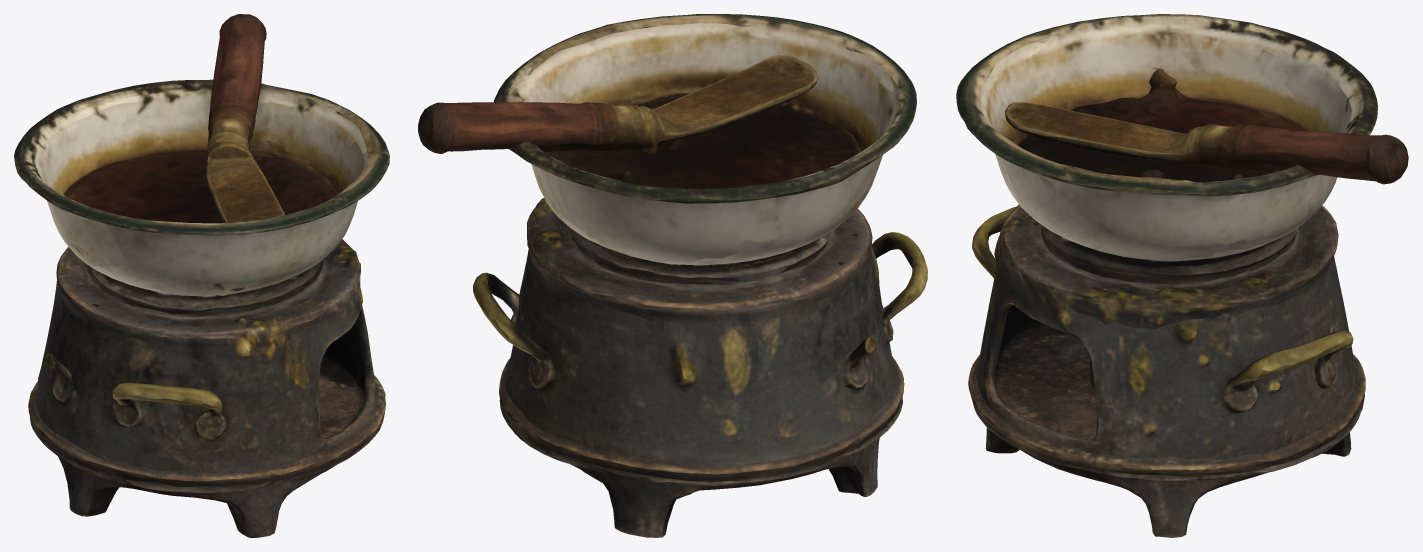
Rendered from 02-wax-heater.glb.
3 views of the same model, side by side, from view 1: azimuth 30°, elevation 25°; view 2: azimuth 150°, elevation 25°; view 3: azimuth 270°, elevation 25° (orthographic). The views are drawn at different scales.
Visible parts, largest first — view 1: world; view 2: world; view 3: world.
Part boxes in pixels (<box>): world: <box>14,14,389,537</box>; world: <box>418,14,927,537</box>; world: <box>956,14,1408,537</box>.
Bounding box in the file's own units: 0.22 × 0.2324 × 0.2407.
1 material, 1 textured.
